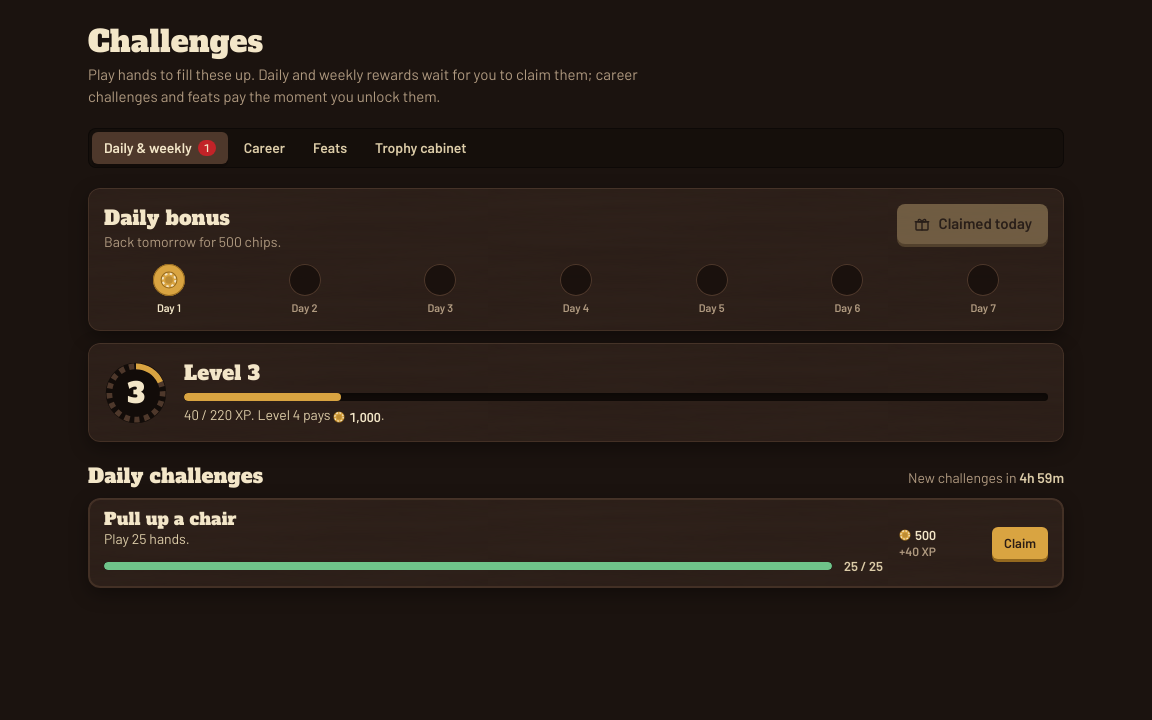
Test: ChallengesScreen › claims a completed challenge: toast, claimed stamp, and the pushed me clears the badge
This screenshot has width=1152, height=720.
What coordinates should you click on to do the following:
click the button with aria-label "Claim Pull up a chair"
I would click on:
 (1020, 543)
Its box is [992, 527, 1048, 559].
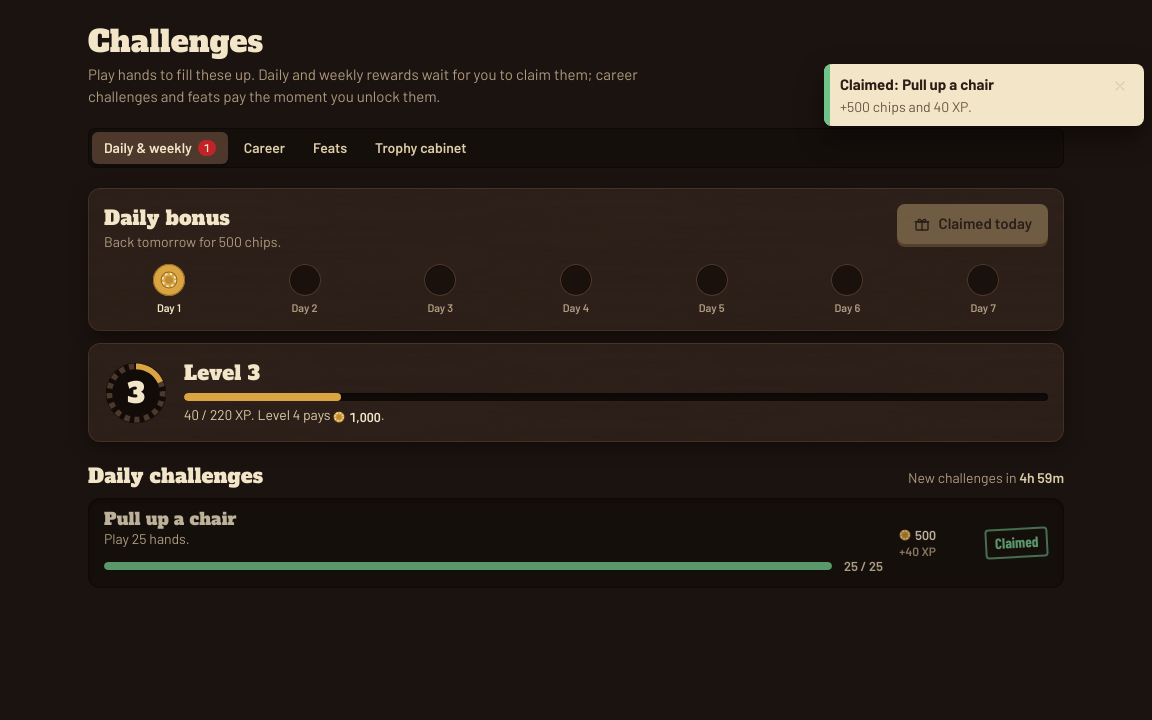
Now the text "Claimed: Pull up a chair" is shown, box [840, 75, 994, 93]
Now the text "+500 chips and 40 XP." is shown, box [840, 98, 972, 115]
Now the text "Claimed" is shown, box [984, 526, 1049, 559]
